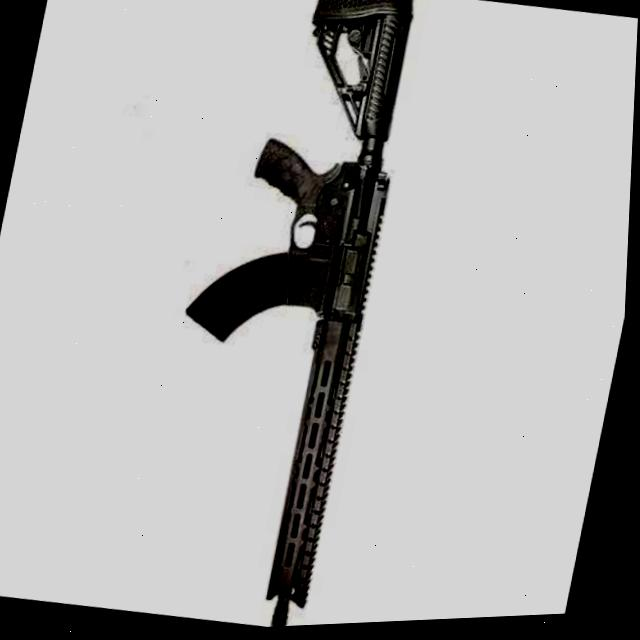rifle: (97, 0, 475, 636)
